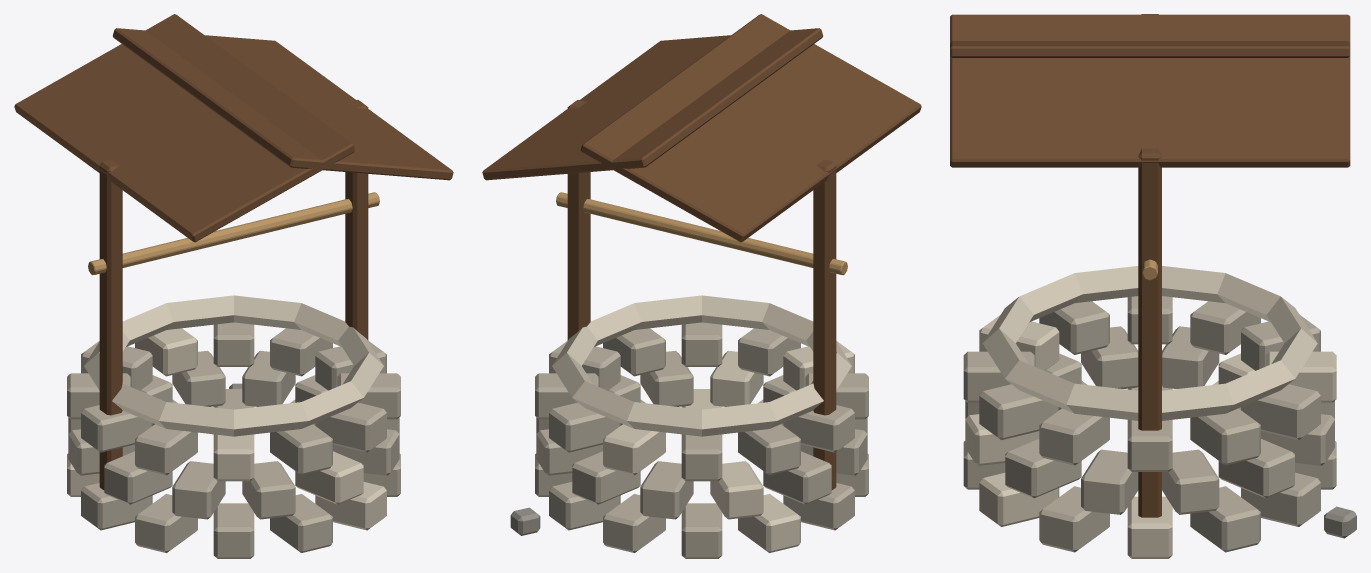
Rendered from runtime.glb.
3 renders of one model, left to right at view 1: azimuth 30°, elevation 25°; view 2: azimuth 150°, elevation 25°; view 3: azimuth 270°, elevation 25°, orthographic. The views are drawn at different scales.
Visible parts, largest first — view 1: falkenwacht-stone-well-v06_nocol; view 2: falkenwacht-stone-well-v06_nocol; view 3: falkenwacht-stone-well-v06_nocol.
Boxes of the visible parts, bbox=[...] form: falkenwacht-stone-well-v06_nocol: bbox=[14, 14, 453, 558]; falkenwacht-stone-well-v06_nocol: bbox=[482, 14, 921, 558]; falkenwacht-stone-well-v06_nocol: bbox=[950, 14, 1356, 558].
Bounding box in the file's own units: 3.14 × 4.2 × 3.42.
